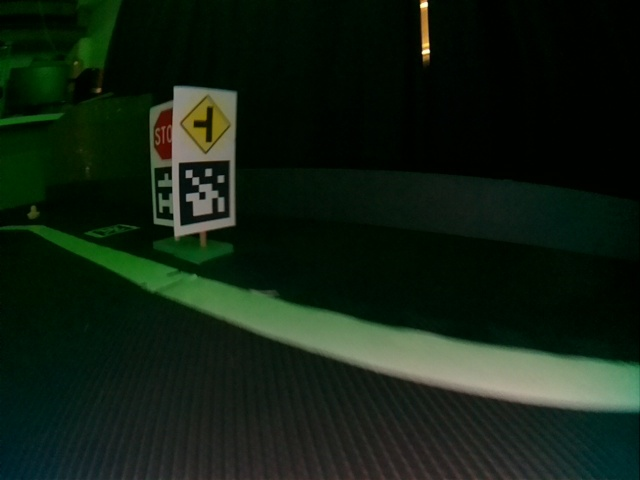Duckie: (27, 205, 40, 219)
Intersection sign: (179, 95, 232, 154)
QR code: (180, 162, 232, 227), (154, 169, 174, 222), (85, 224, 137, 236)
Stop sign: (152, 107, 173, 160)
